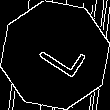L_NW: (25, 28, 85, 82)
